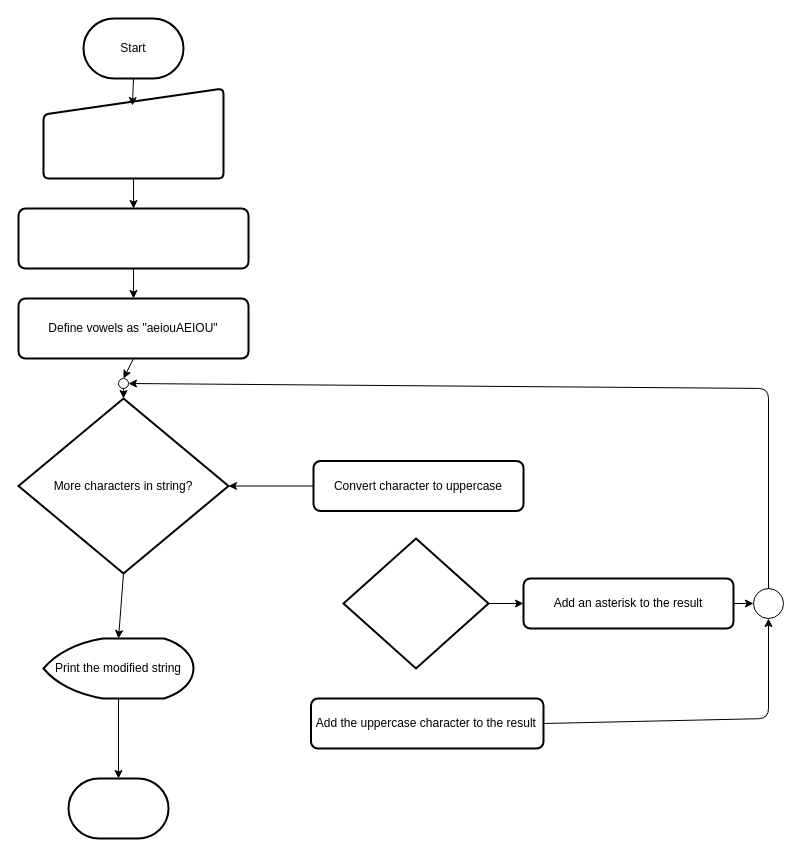
The diagram is 801 pixels wide and 856 high, and some of its shapes have lost their labels. Each missing label, with the box of its shape:
End: (67, 777, 169, 839)
Initialze an empty string for the result: (17, 207, 249, 269)
Is character a vowel?: (342, 537, 489, 669)
Read input string from the user: (42, 87, 224, 179)
